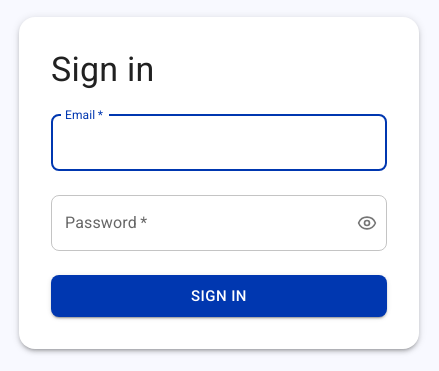
Test: Login › password visibility › keeps the password masked until the toggle is used
What coordinates should you click on to do the following:
click the button named "show password"
I would click on:
 (367, 223)
Its box is [349,205,385,241].
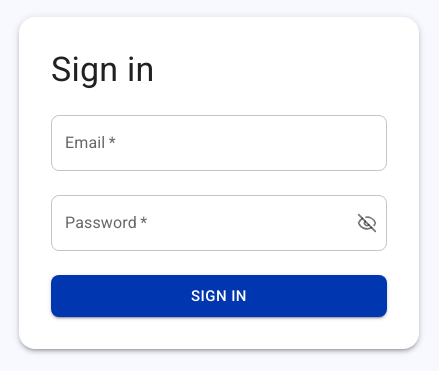
Now the button named "hide password" is shown, box [349,205,385,241]
